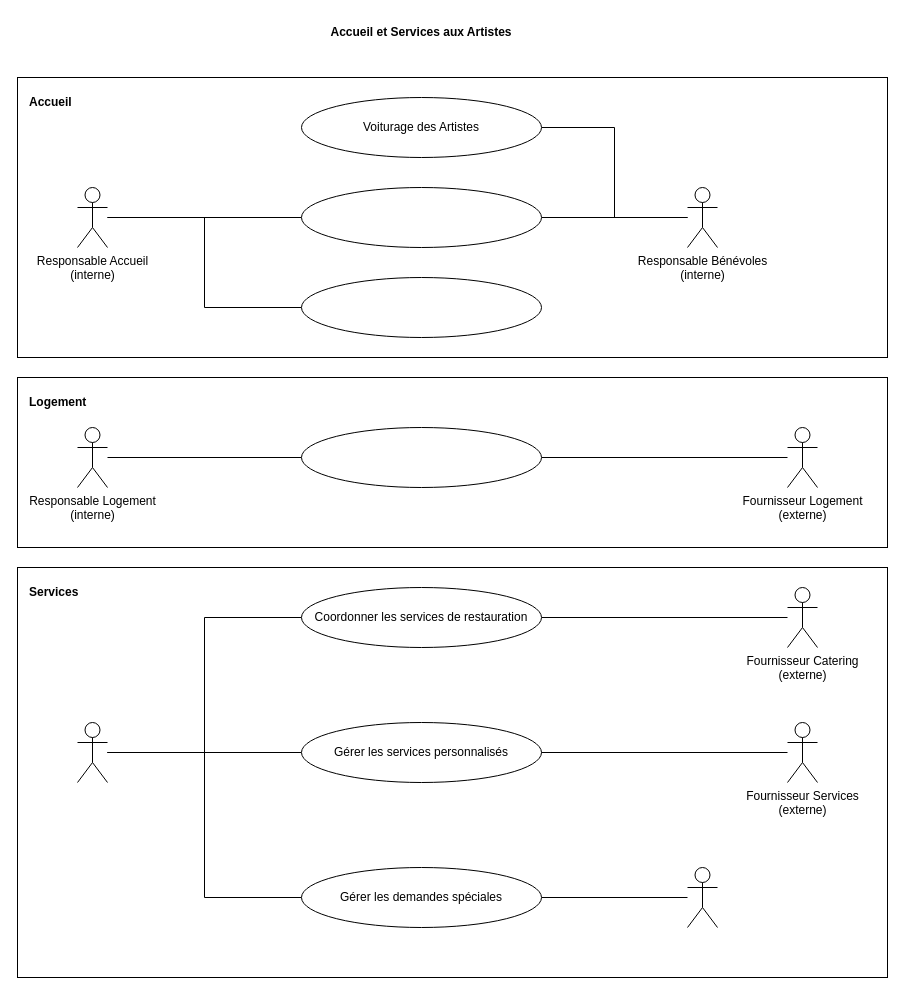
Image size: 905x995. Some labels were removed from this diagram. Each missing label, with the centre of its shape:
"Accueillir les Artistes à leur arrivée" goes at (x=421, y=217).
"Coordonner les hébergements" goes at (x=421, y=457).
"Gérer les accès VIP" goes at (x=421, y=307).
"Régisseur Général (interne)" goes at (x=92, y=752).
"Régisseur Technique (interne)" goes at (x=702, y=897).
